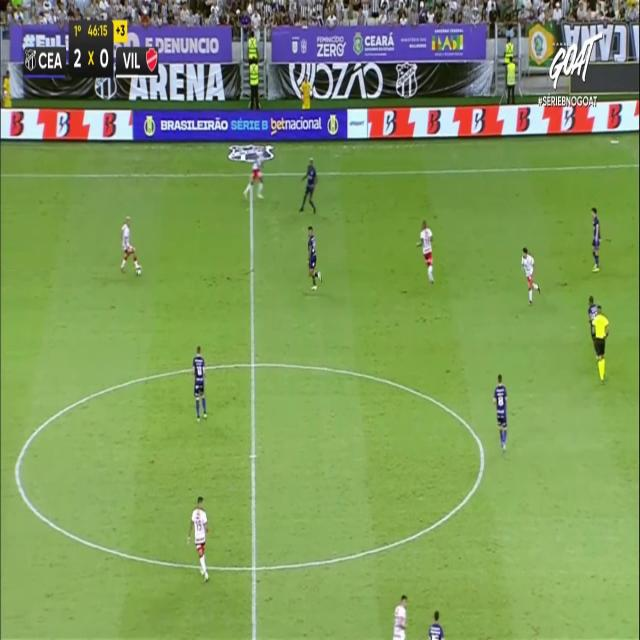player: (187, 495, 210, 581), (584, 289, 608, 358), (120, 215, 142, 276), (492, 372, 508, 450), (521, 246, 541, 305), (416, 218, 434, 282), (192, 344, 207, 420), (299, 156, 317, 214), (306, 225, 322, 290), (392, 586, 409, 640), (242, 160, 264, 200), (590, 206, 600, 271), (428, 609, 444, 640)
referee: (591, 303, 609, 383)
